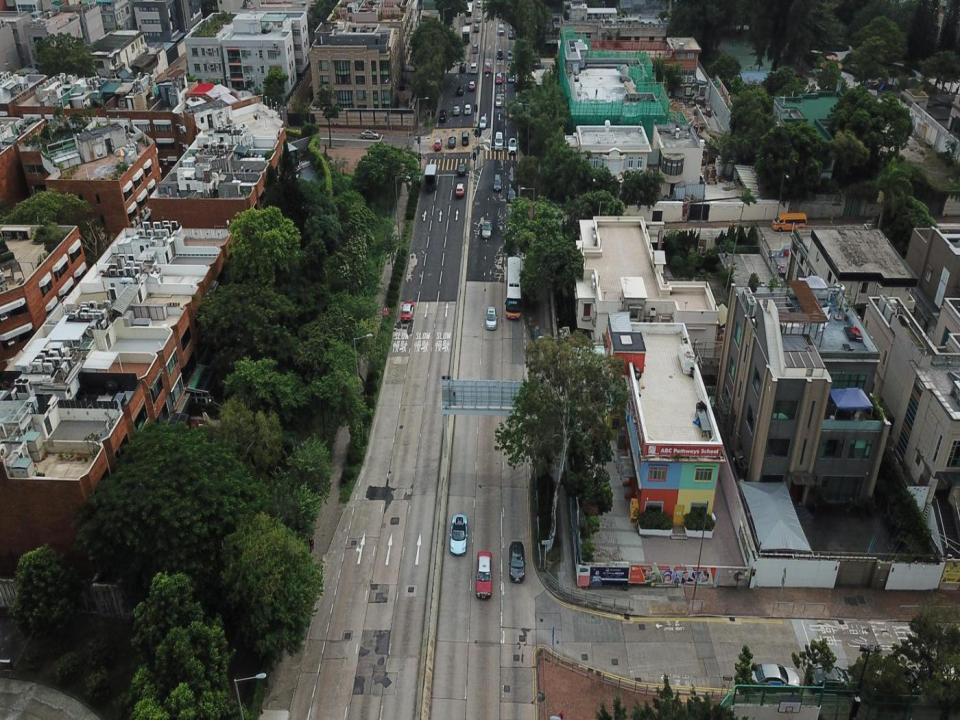bus: (505, 254, 521, 321), (464, 3, 474, 26)
car: (745, 662, 799, 692), (806, 665, 856, 691), (476, 552, 492, 599), (450, 512, 467, 556), (509, 542, 525, 580), (400, 300, 414, 322), (485, 307, 498, 330), (481, 218, 493, 238), (360, 129, 380, 139), (492, 174, 502, 190), (454, 183, 465, 197), (508, 137, 516, 154), (479, 115, 487, 129), (448, 136, 457, 148), (434, 138, 442, 151), (458, 163, 466, 176), (458, 61, 466, 74), (508, 70, 516, 82), (439, 108, 446, 121), (495, 93, 502, 106), (464, 102, 471, 114), (508, 28, 515, 40), (468, 80, 476, 90), (453, 103, 460, 114), (458, 84, 464, 96), (472, 42, 478, 54), (485, 61, 491, 72), (496, 71, 501, 83), (475, 0, 482, 7), (474, 23, 479, 32), (476, 15, 482, 22)
truck: (424, 164, 437, 193), (462, 27, 470, 42)
van: (771, 213, 807, 233), (506, 184, 518, 202), (494, 131, 503, 150), (461, 132, 469, 145), (497, 22, 504, 36), (496, 48, 504, 60), (470, 61, 478, 73), (506, 48, 514, 60)
